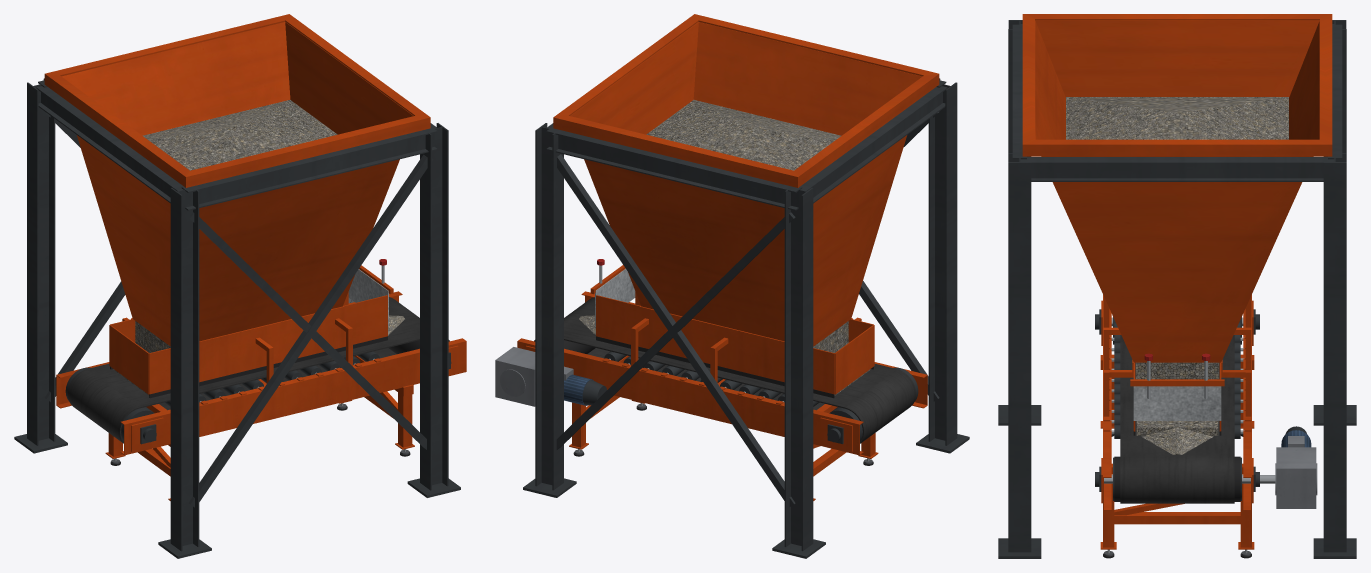
Rendered from hopper.glb.
3 renders of one model, left to right at view 1: azimuth 30°, elevation 25°; view 2: azimuth 150°, elevation 25°; view 3: azimuth 270°, elevation 25°, orthographic. The views are drawn at different scales.
Visible parts, largest first — view 1: Hopper, Structure, Skirts, Frame, Stone, Belt, Feeder legs, Rollers, Pulleys; view 2: Hopper, Structure, Skirts, Frame, Stone, Belt, Drive, Feeder legs, Rollers, Pulleys; view 3: Hopper, Structure, Stone, Belt, Skirts, Feeder legs, Drive, Frame, Rollers, Pulleys, Bearings.
Boxes of the visible parts, <box> form: Hopper: <box>44,14,430,351</box>; Structure: <box>14,78,460,558</box>; Skirts: <box>109,259,393,398</box>; Frame: <box>56,291,466,455</box>; Stone: <box>113,100,404,395</box>; Belt: <box>67,297,449,443</box>; Feeder legs: <box>105,384,414,500</box>; Rollers: <box>164,351,379,406</box>; Pulleys: <box>65,340,448,440</box>; Hopper: <box>553,14,939,351</box>; Structure: <box>523,78,969,558</box>; Skirts: <box>590,259,874,398</box>; Frame: <box>517,291,927,455</box>; Stone: <box>579,100,870,395</box>; Belt: <box>534,297,916,443</box>; Drive: <box>495,347,606,406</box>; Feeder legs: <box>569,395,878,500</box>; Rollers: <box>604,351,819,406</box>; Pulleys: <box>564,340,918,440</box>; Hopper: <box>1022,14,1332,373</box>; Structure: <box>998,20,1356,558</box>; Stone: <box>1066,97,1288,454</box>; Belt: <box>1120,335,1234,503</box>; Skirts: <box>1103,296,1251,435</box>; Feeder legs: <box>1100,355,1254,549</box>; Drive: <box>1275,426,1317,508</box>; Frame: <box>1101,294,1253,510</box>; Rollers: <box>1110,322,1244,438</box>; Pulleys: <box>1104,317,1275,501</box>; Bearings: <box>1095,309,1259,491</box>.
Bounding box in the file's own units: 3.02 × 3.11 × 2.5.
Materials: 12 (12 with a texture image).
